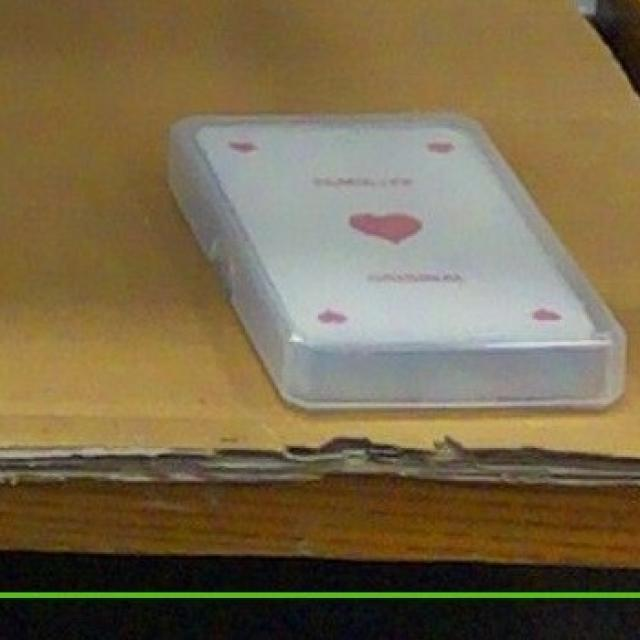Jasskarte: (170, 115, 622, 408)
